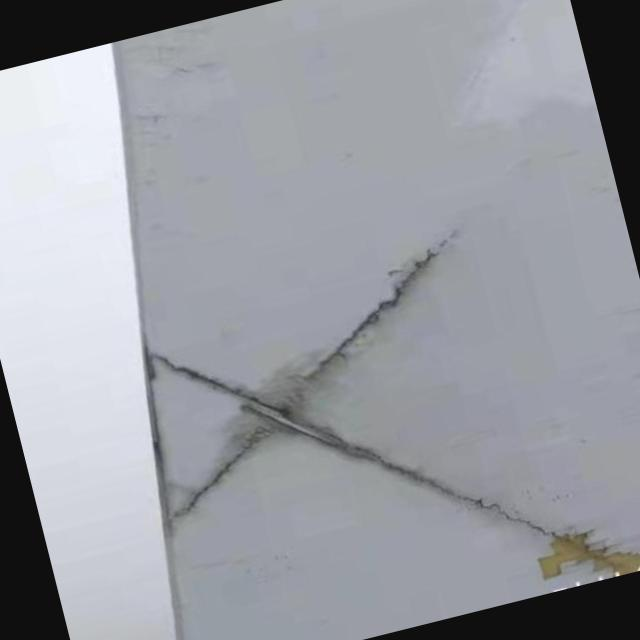corrosion: (525, 505, 640, 594)
crack: (140, 252, 546, 619)
